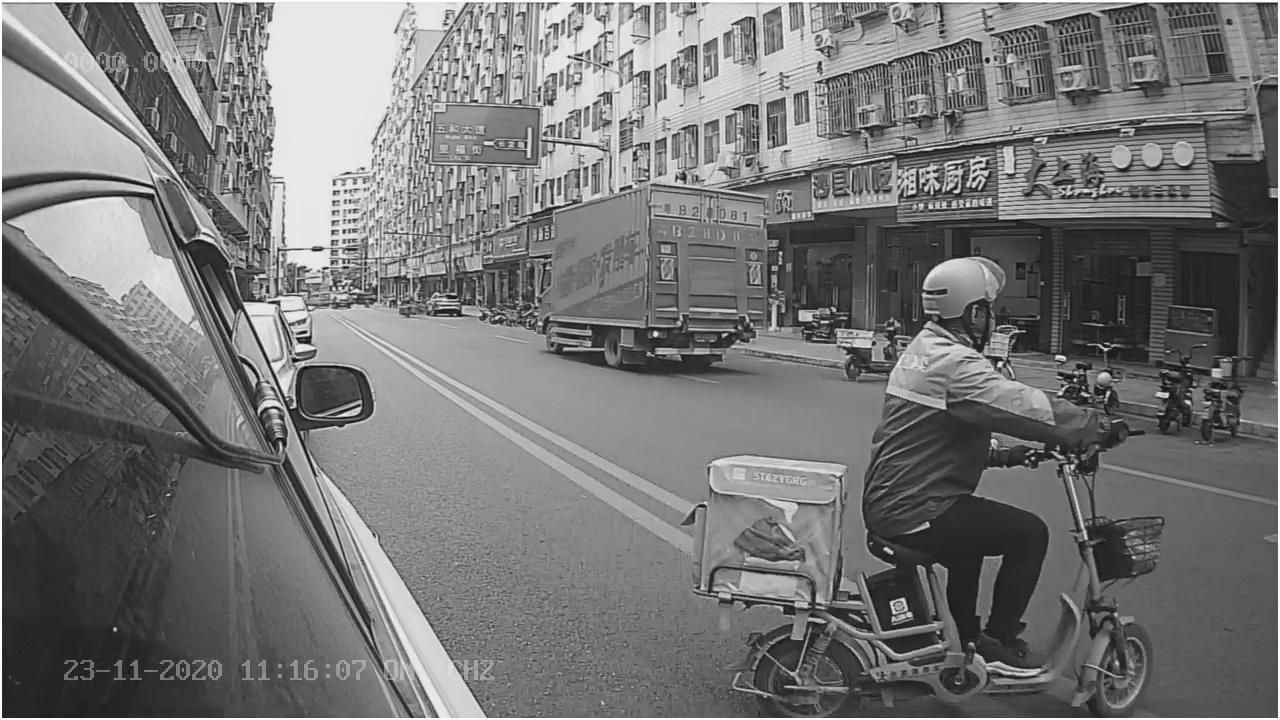person: (868, 254, 1136, 436)
